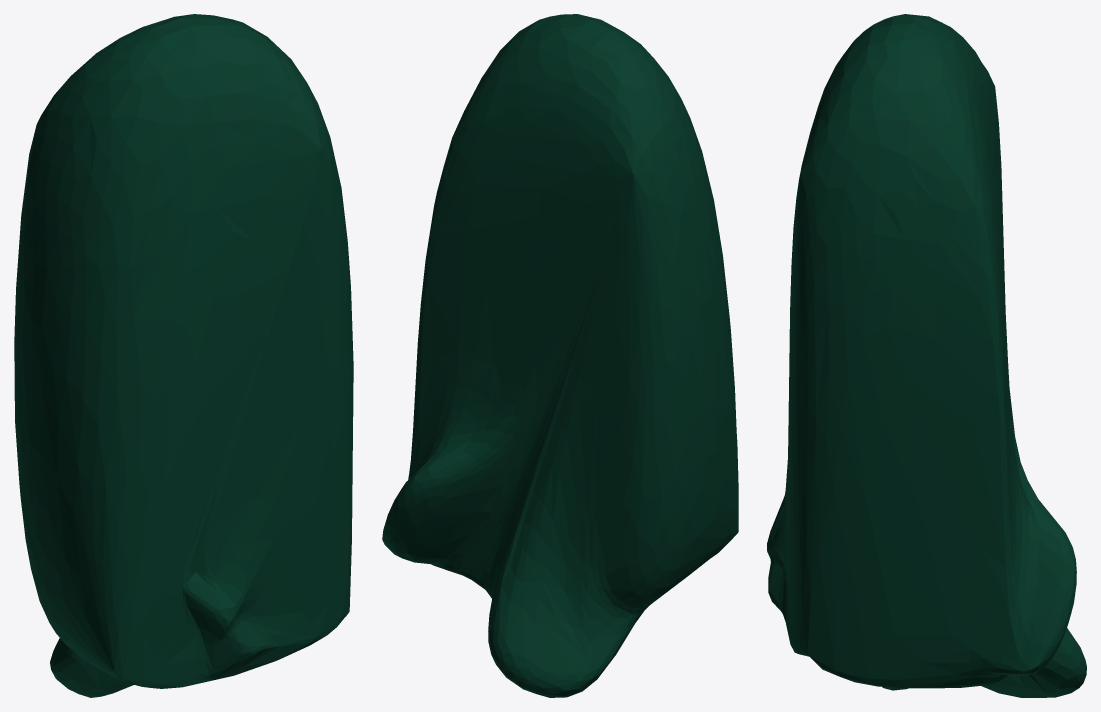
3 views of the same model, side by side, from view 1: azimuth 30°, elevation 25°; view 2: azimuth 150°, elevation 25°; view 3: azimuth 270°, elevation 25° (orthographic). The views are drawn at different scales.
Parts seen in each view (by area): view 1: 294_Cube.1200; view 2: 294_Cube.1200; view 3: 294_Cube.1200.
Boxes of the visible parts, x1,y1,x2,y2 form: 294_Cube.1200: (14, 14, 353, 697); 294_Cube.1200: (382, 14, 738, 697); 294_Cube.1200: (767, 14, 1086, 697).
Size of the model in its own units: 5.94 by 13.01 by 5.45.
